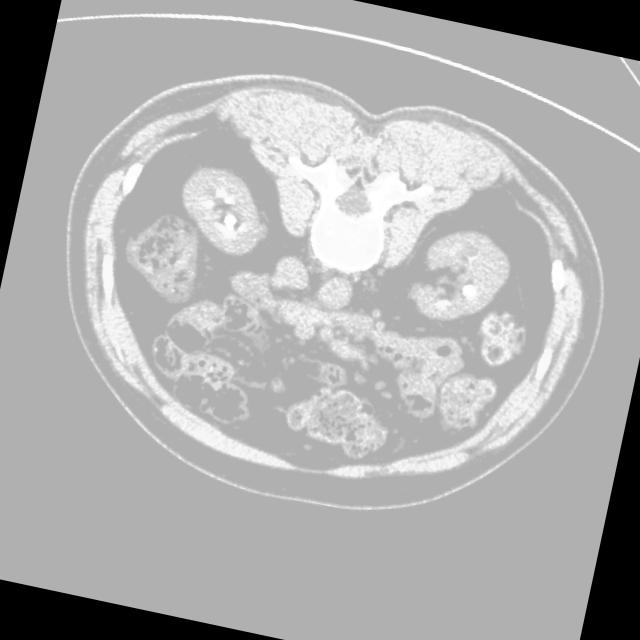STONE: (123, 142, 537, 399)
